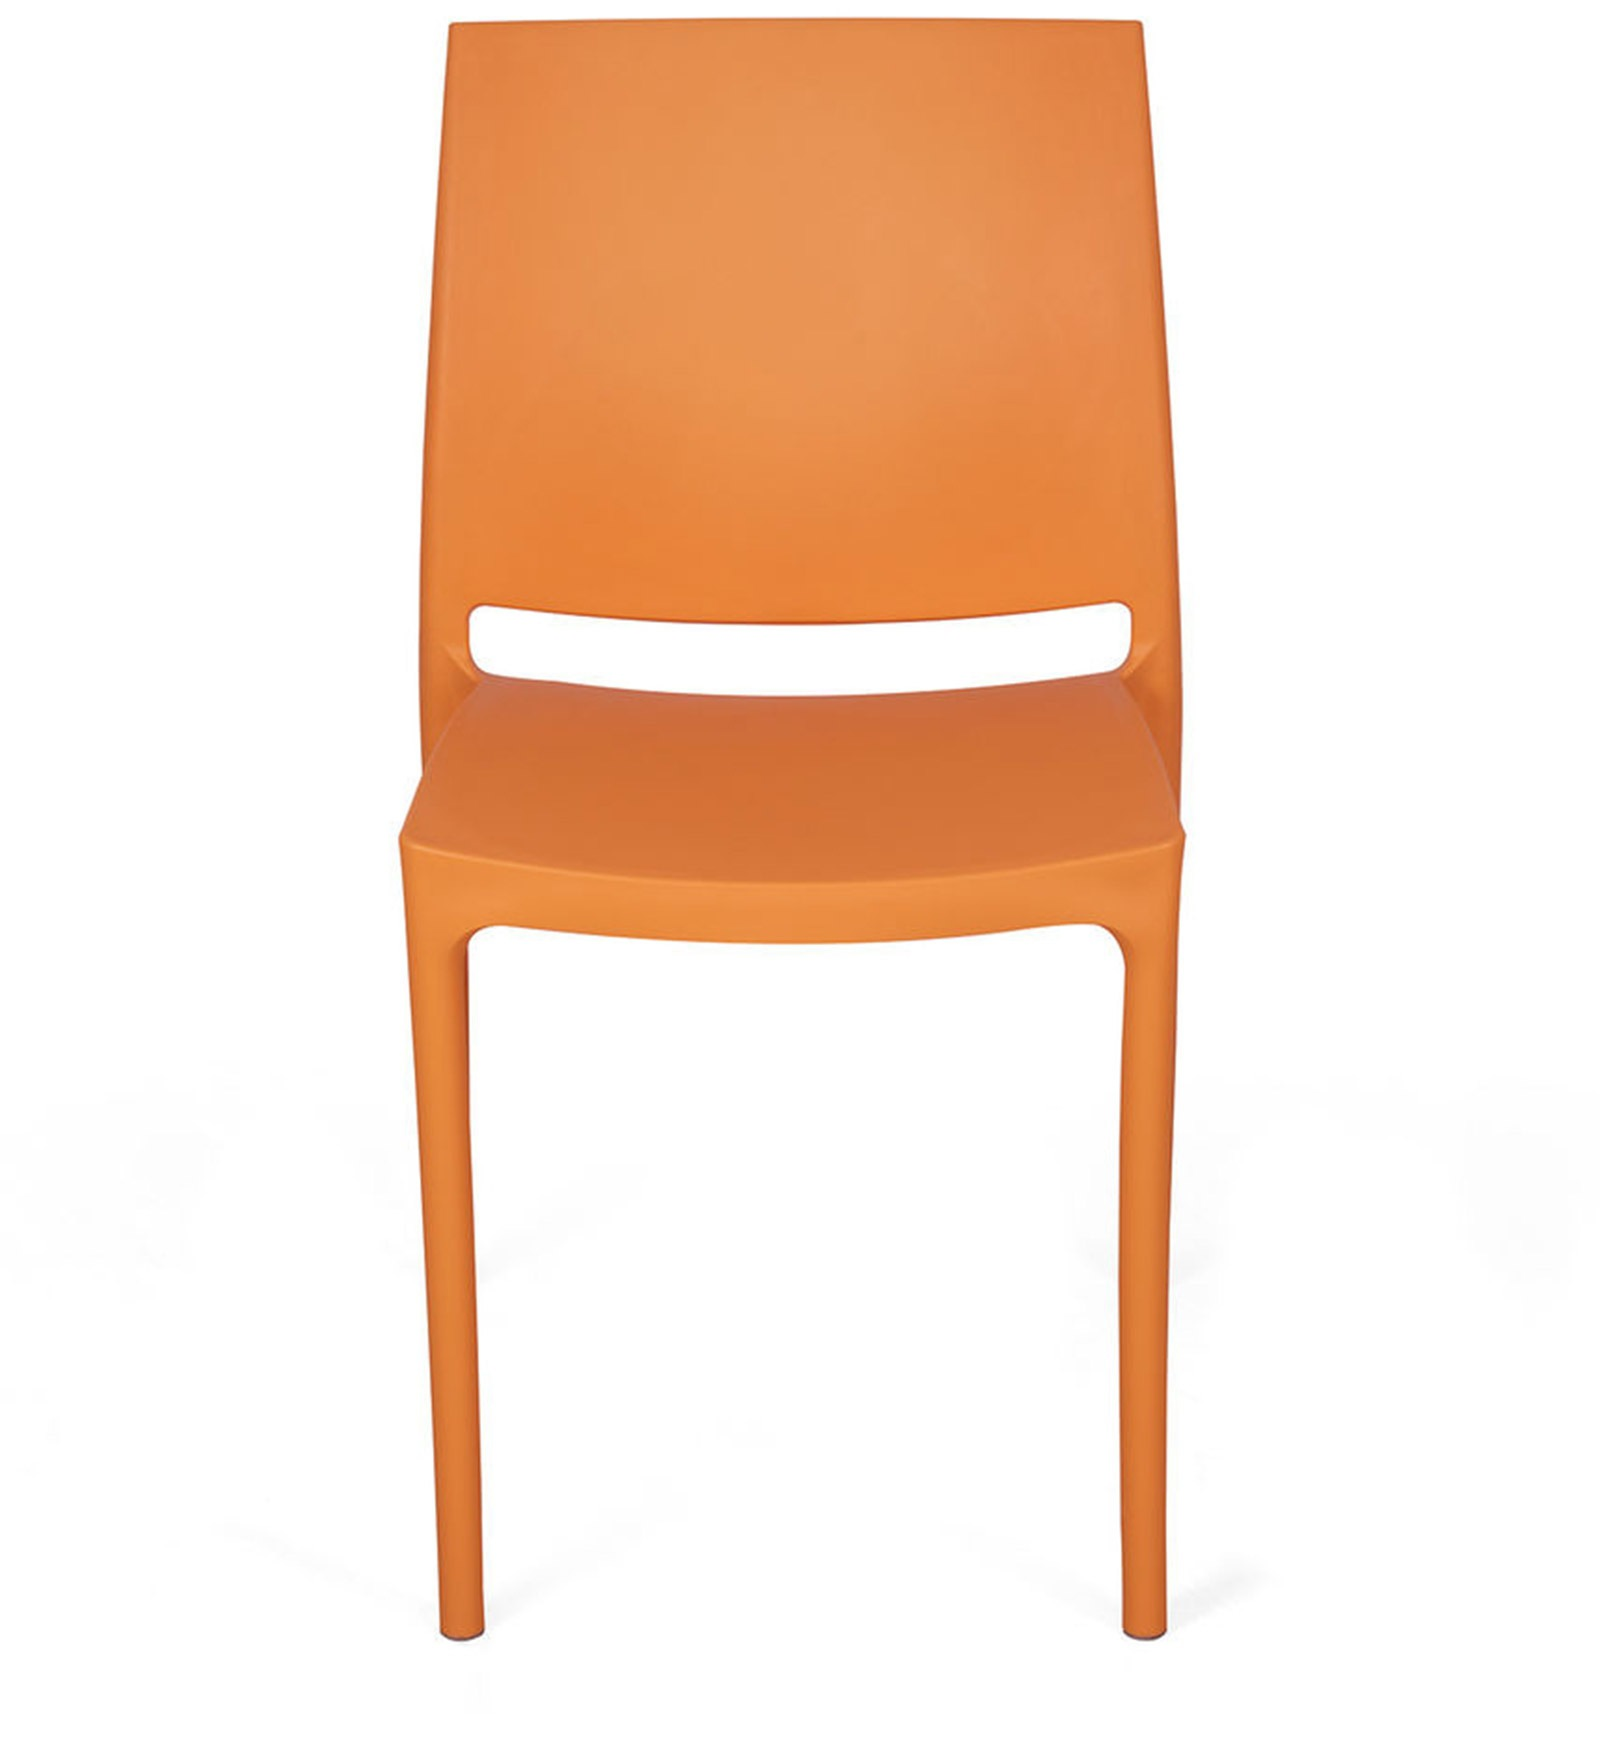Novella Series - 8 Chair (Set of 2) in Orange Colour by Nilkamal: (395, 12, 1189, 1643)
